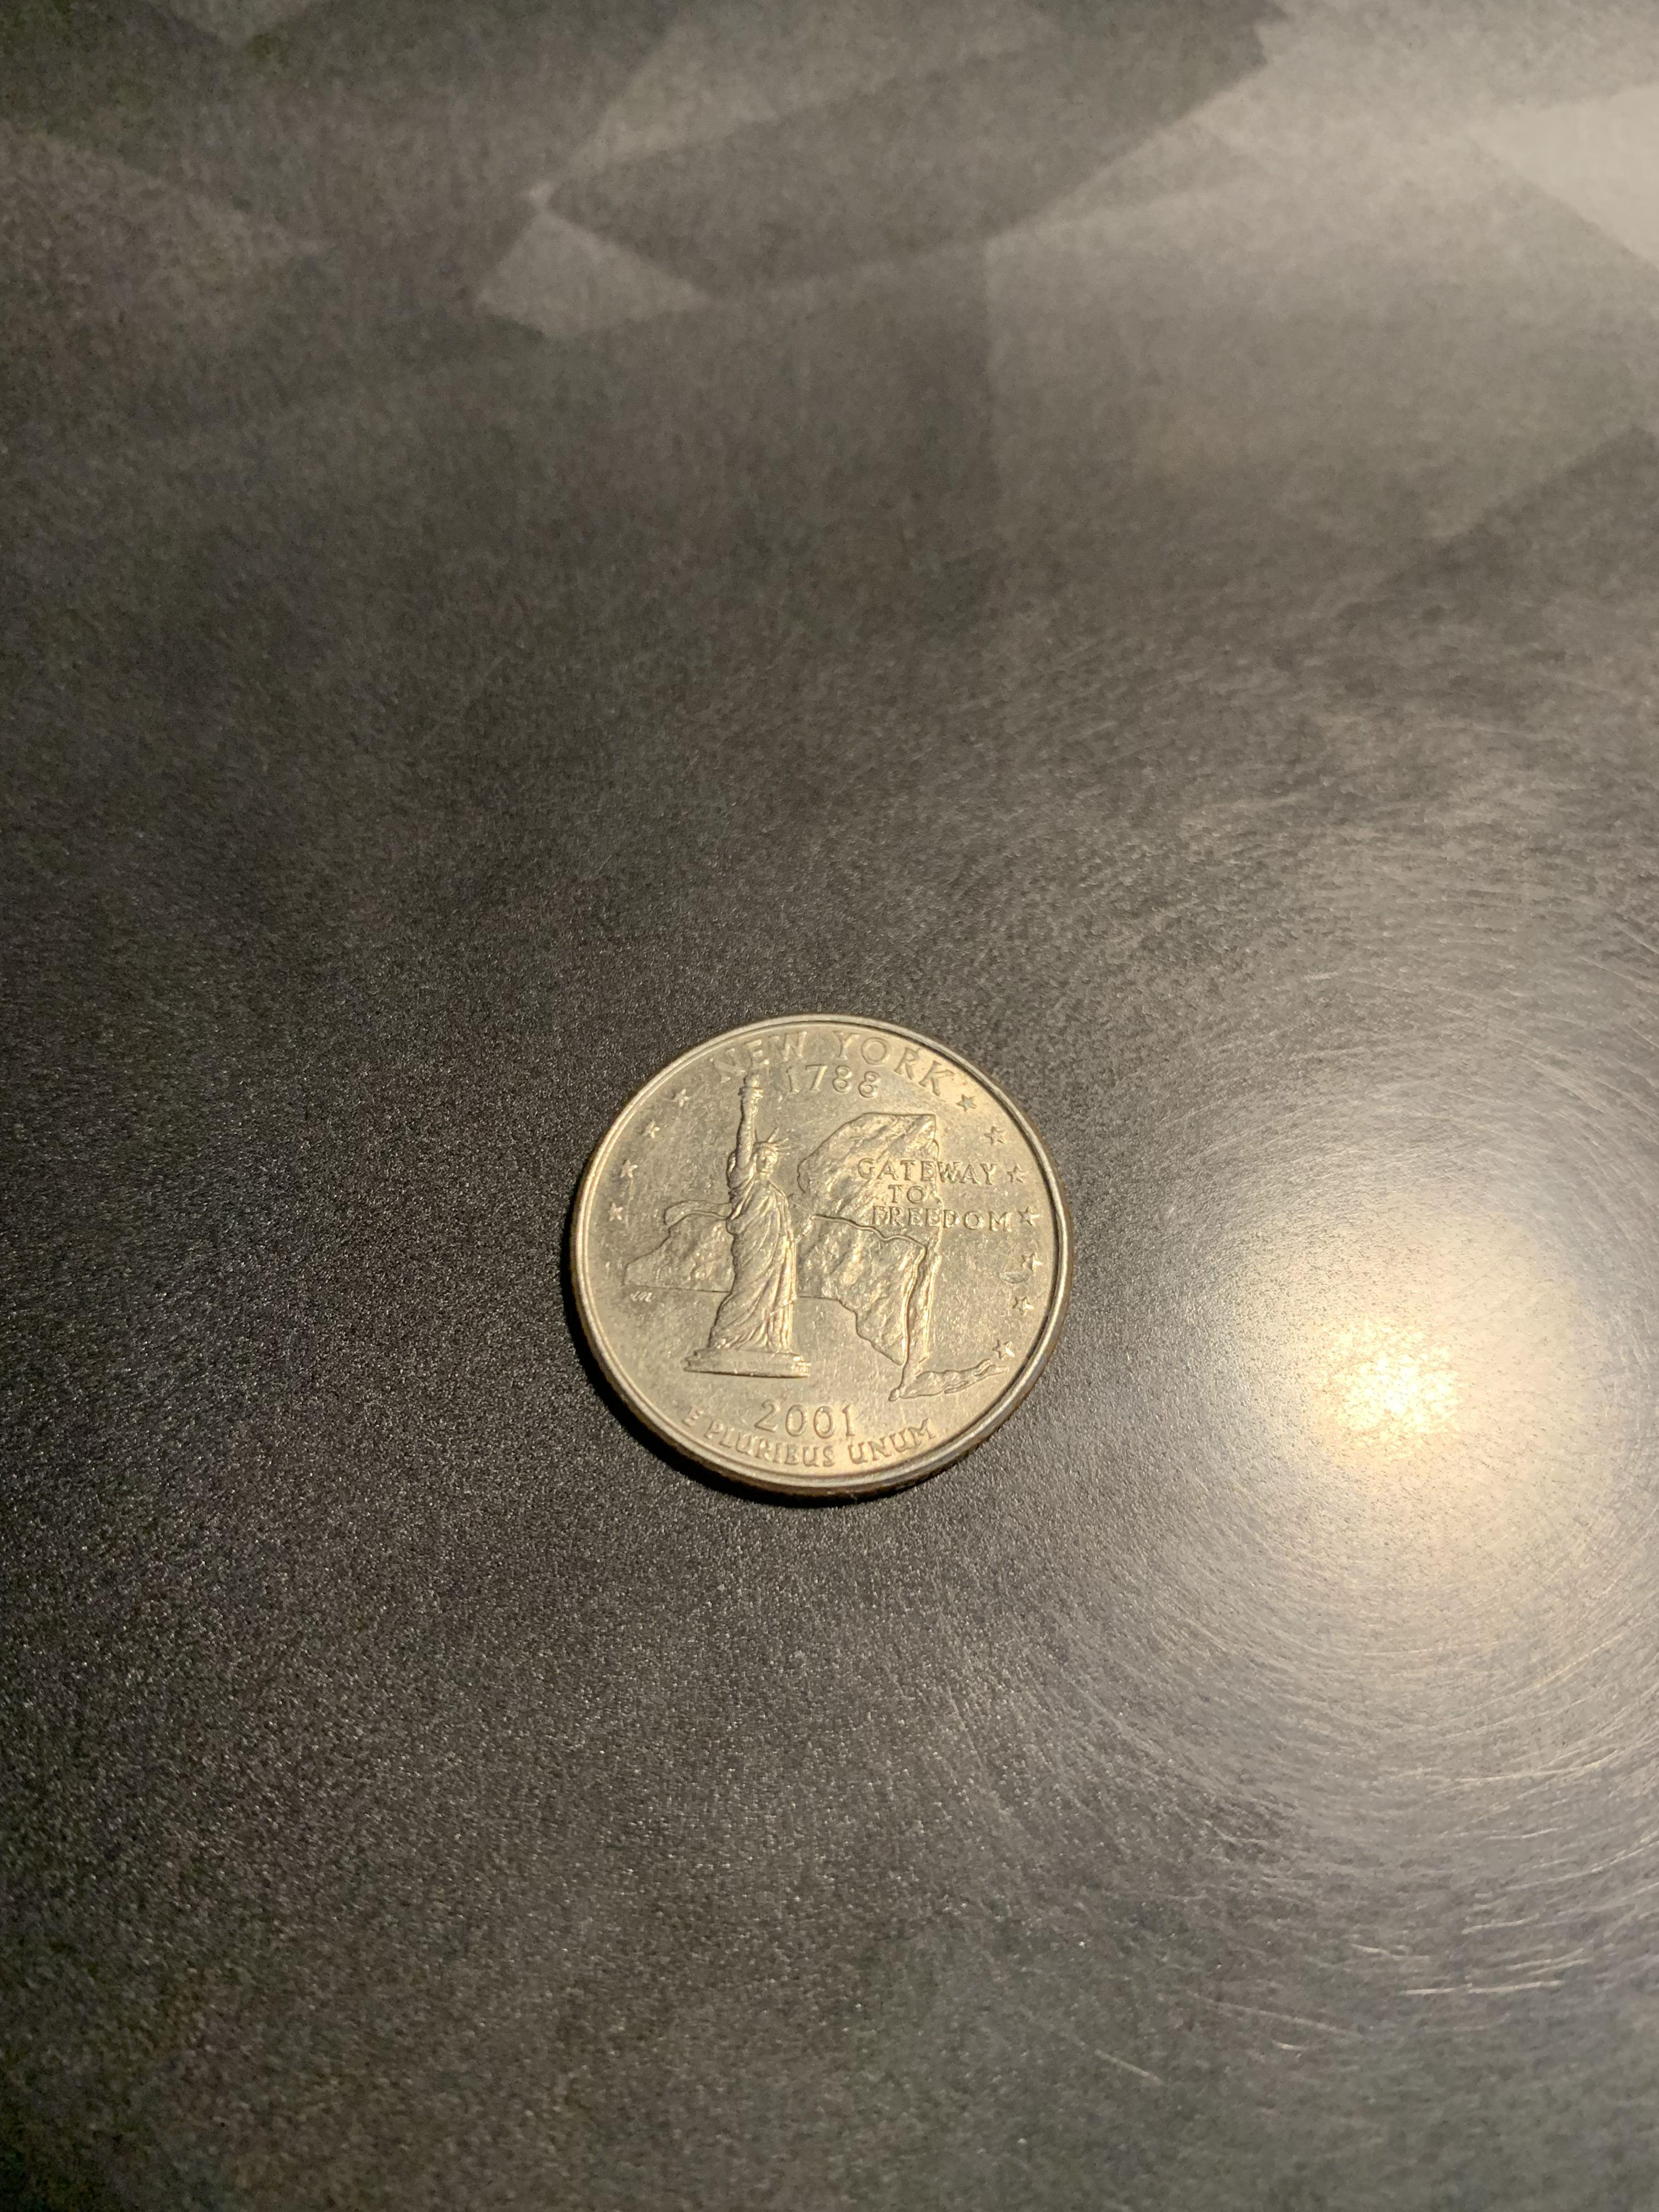Quarter: (544, 1001, 1089, 1519)
